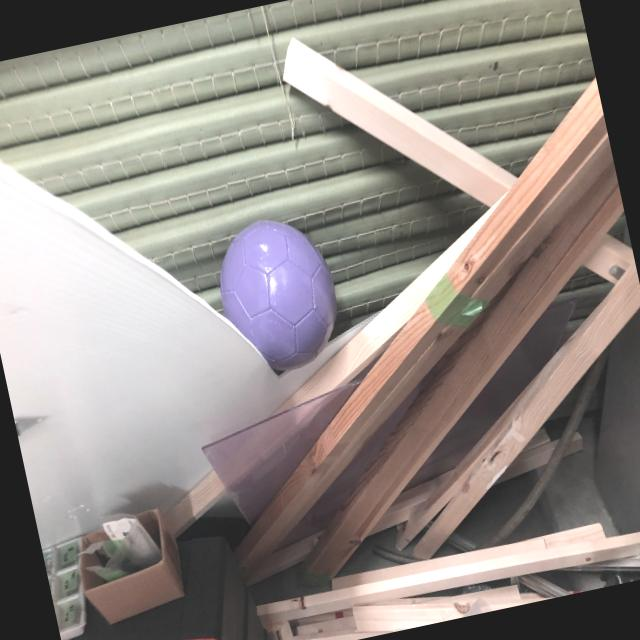purple_ball: (206, 205, 350, 382)
